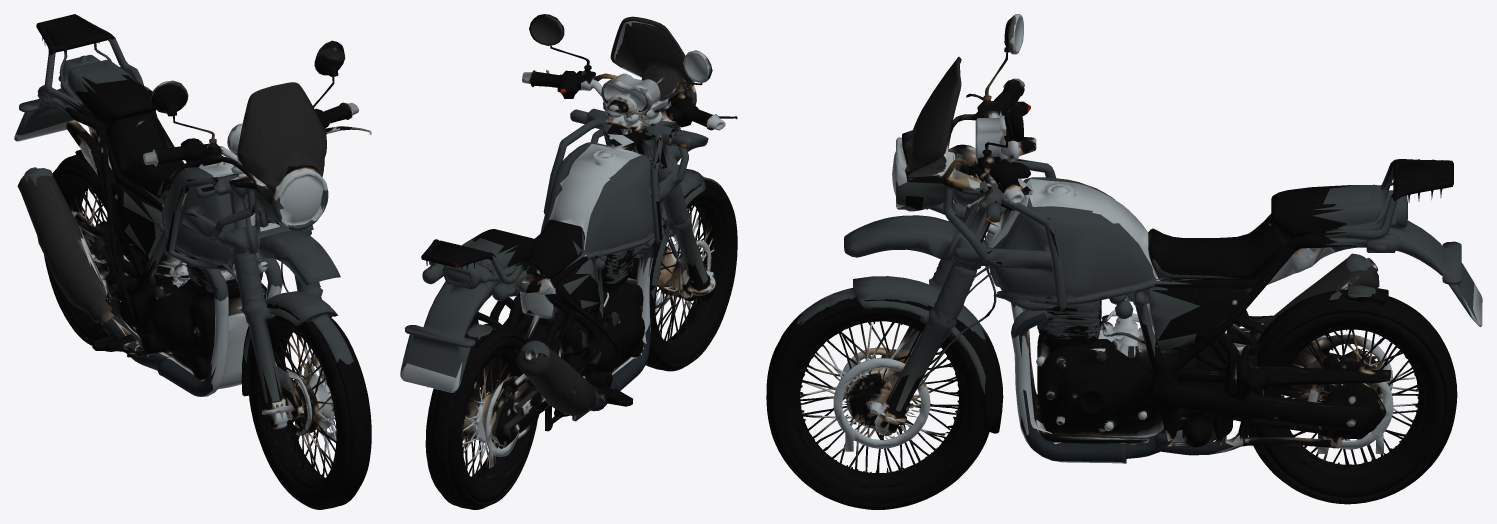
The model's file is himalayan.glb.
3 views of the same model, side by side, from view 1: azimuth 30°, elevation 25°; view 2: azimuth 150°, elevation 25°; view 3: azimuth 270°, elevation 25° (orthographic). The views are drawn at different scales.
Parts seen in each view (by area): view 1: ReferencePart, ReferencePart.001, ReferencePart.002; view 2: ReferencePart, ReferencePart.002, ReferencePart.001; view 3: ReferencePart, ReferencePart.001, ReferencePart.002.
Boxes of the visible parts, x1,y1,x2,y2 form: ReferencePart: [14, 14, 371, 429]; ReferencePart.001: [243, 303, 371, 509]; ReferencePart.002: [44, 149, 130, 351]; ReferencePart: [400, 14, 737, 468]; ReferencePart.002: [425, 329, 537, 509]; ReferencePart.001: [628, 179, 737, 371]; ReferencePart: [774, 14, 1482, 486]; ReferencePart.001: [766, 297, 1003, 509]; ReferencePart.002: [1250, 286, 1457, 504].
Size of the model in its own units: 0.8427 by 1.5 by 2.18.
4 materials, 1 textured.
